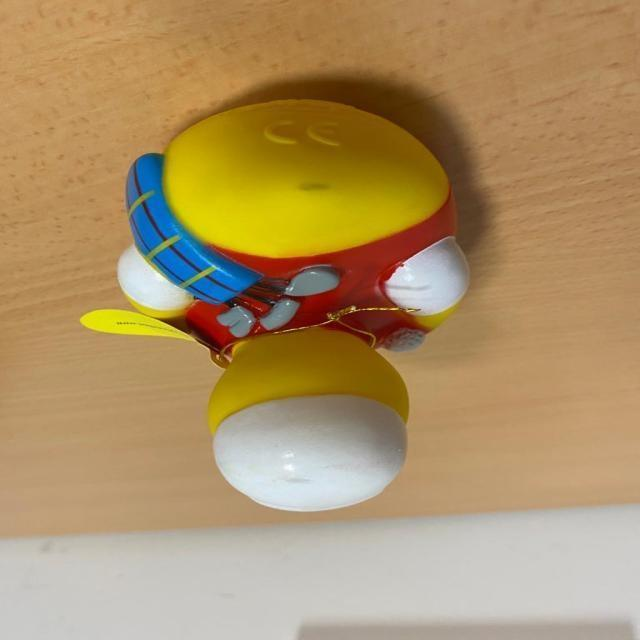rubber-duck: (117, 99, 467, 509)
